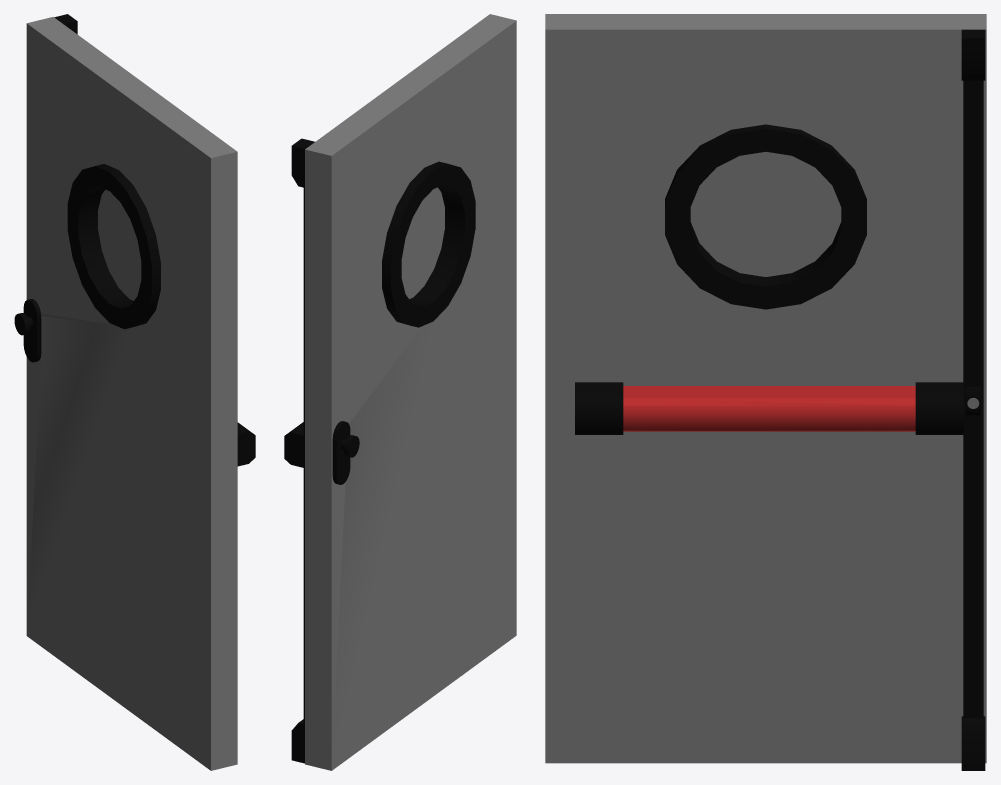
Rendered from PUERTA.fbx.
3 renders of one model, left to right at view 1: azimuth 30°, elevation 25°; view 2: azimuth 150°, elevation 25°; view 3: azimuth 270°, elevation 25°, orthographic. The views are drawn at different scales.
Visible parts, largest first — view 1: Box001; view 2: Box001; view 3: Box001.
Boxes of the visible parts, bbox=[...] form: Box001: bbox=[14, 14, 255, 770]; Box001: bbox=[284, 14, 516, 770]; Box001: bbox=[545, 14, 986, 770].
Size of the model in its own units: 2.68 by 22.01 by 12.
